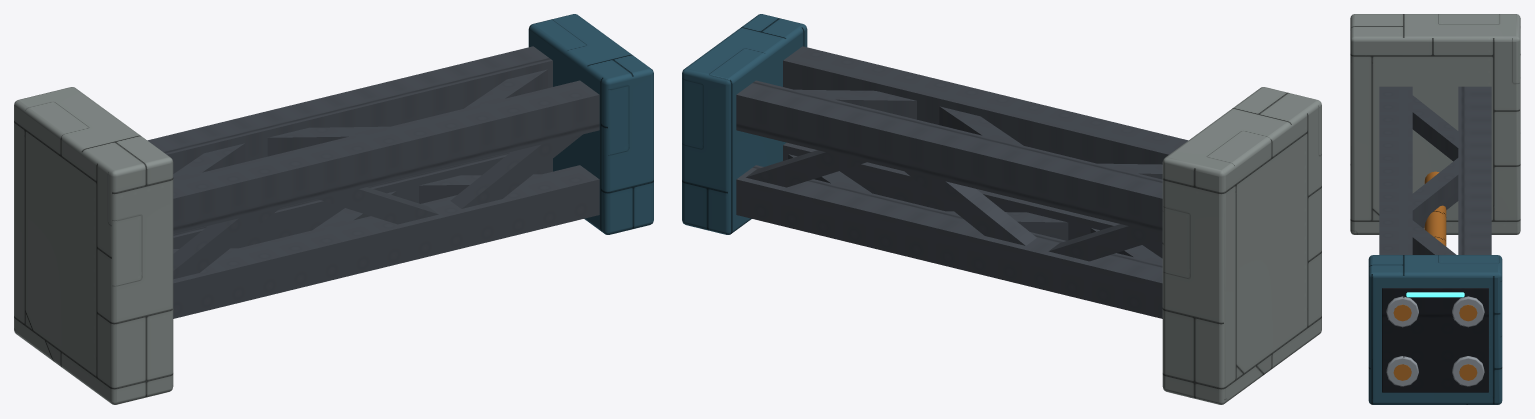
File: service_umbilical_lod1.glb
The picture shows the model from 3 angles, left to right: view 1: azimuth 30°, elevation 25°; view 2: azimuth 150°, elevation 25°; view 3: azimuth 270°, elevation 25°; orthographic projection. The views are drawn at different scales.
Parts seen in each view (by area): view 1: LOD1_Mechanical, LOD1_Hull, LOD1_Armor; view 2: LOD1_Mechanical, LOD1_Hull, LOD1_Armor; view 3: LOD1_Hull, LOD1_Mechanical, LOD1_Armor, LOD1_MechanicalDark, LOD1_BrushedMetal, LOD1_Livery, LOD1_Lights_Cyan.
Part boxes in pixels (left/top/right/bottom): LOD1_Mechanical: left=147, top=46, right=599, bottom=318; LOD1_Hull: left=14, top=87, right=173, bottom=404; LOD1_Armor: left=528, top=14, right=653, bottom=234; LOD1_Mechanical: left=736, top=46, right=1188, bottom=318; LOD1_Hull: left=1162, top=87, right=1321, bottom=404; LOD1_Armor: left=682, top=14, right=807, bottom=234; LOD1_Hull: left=1350, top=14, right=1520, bottom=234; LOD1_Mechanical: left=1379, top=86, right=1491, bottom=254; LOD1_Armor: left=1368, top=255, right=1502, bottom=404; LOD1_MechanicalDark: left=1382, top=288, right=1488, bottom=392; LOD1_BrushedMetal: left=1386, top=296, right=1484, bottom=386; LOD1_Livery: left=1393, top=171, right=1477, bottom=380; LOD1_Lights_Cyan: left=1406, top=292, right=1464, bottom=297.
Bounding box in the file's own units: 4.5 × 1.8 × 1.4.
Materials: 7 (6 with a texture image).
